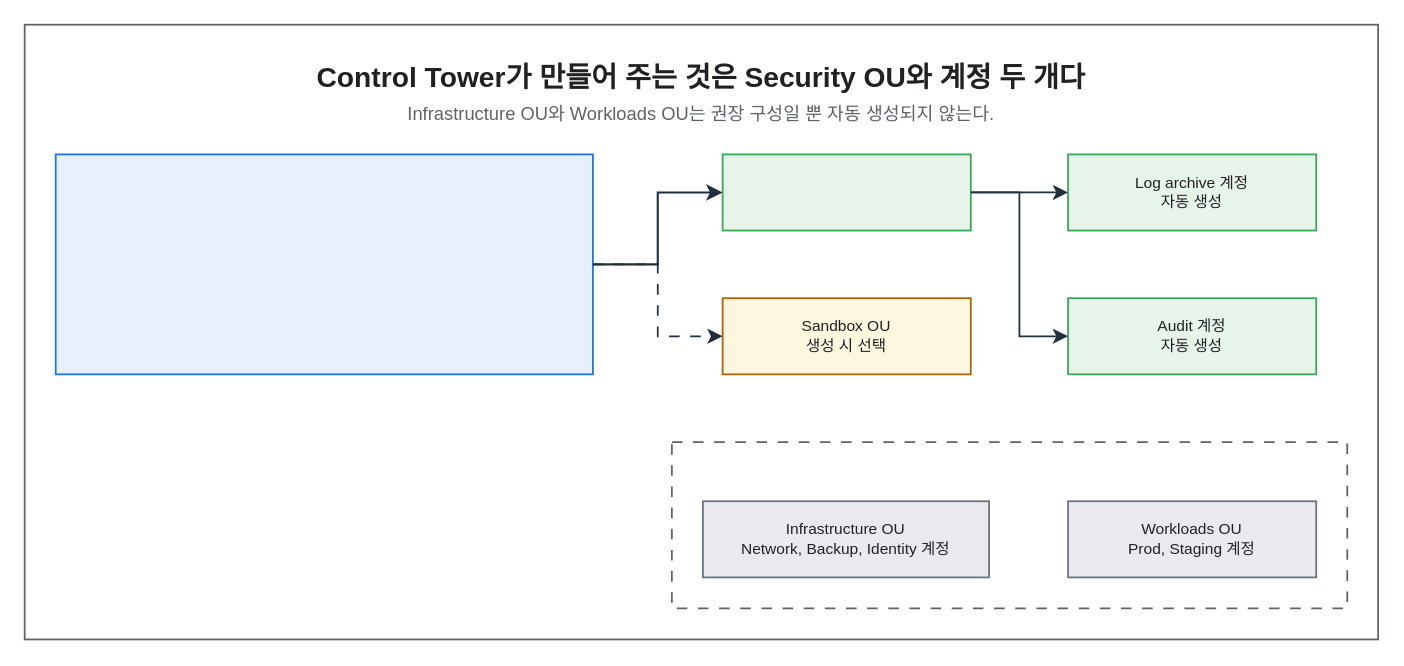
Image size: 1404x666. Some labels were removed from this diagram. Each missing label, with the box of its shape:
AWS Control Tower Organizations, Service Catalog, Identity Center를 오케스트레이션: (54, 153, 593, 375)
Security OU 자동 생성: (721, 153, 971, 231)
직접 만들어야 하는 OU: (670, 440, 1348, 609)
